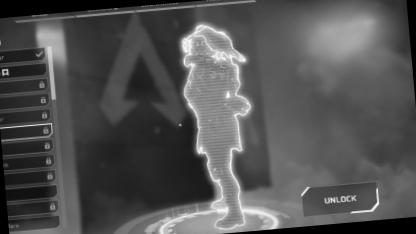Target: (174, 21, 252, 216)
